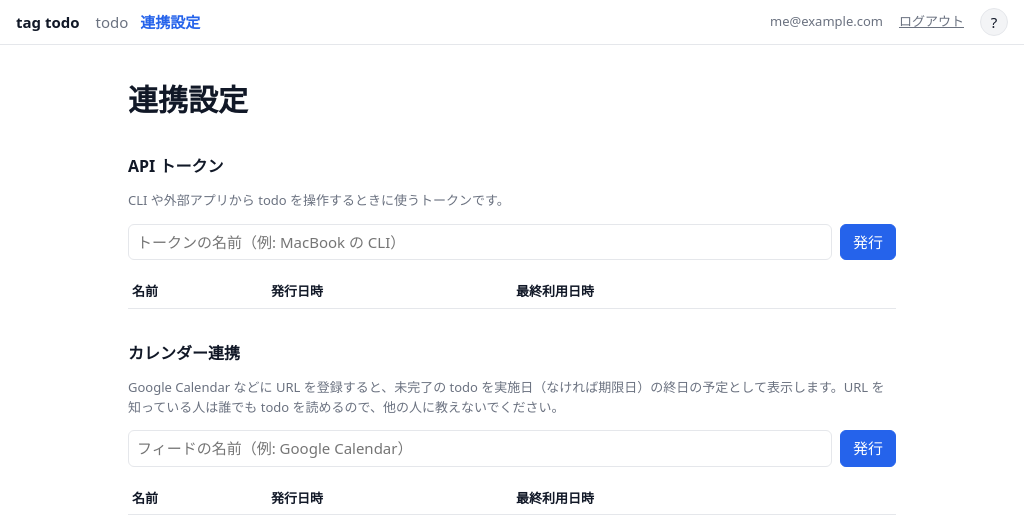
ヘッダー › ログイン中のメールアドレスを表示し、todo 画面に移動できる
Check: the text "me@example.com" is shown, box [770, 12, 883, 32]
Click the link "todo" at (112, 22), box [96, 11, 128, 33]
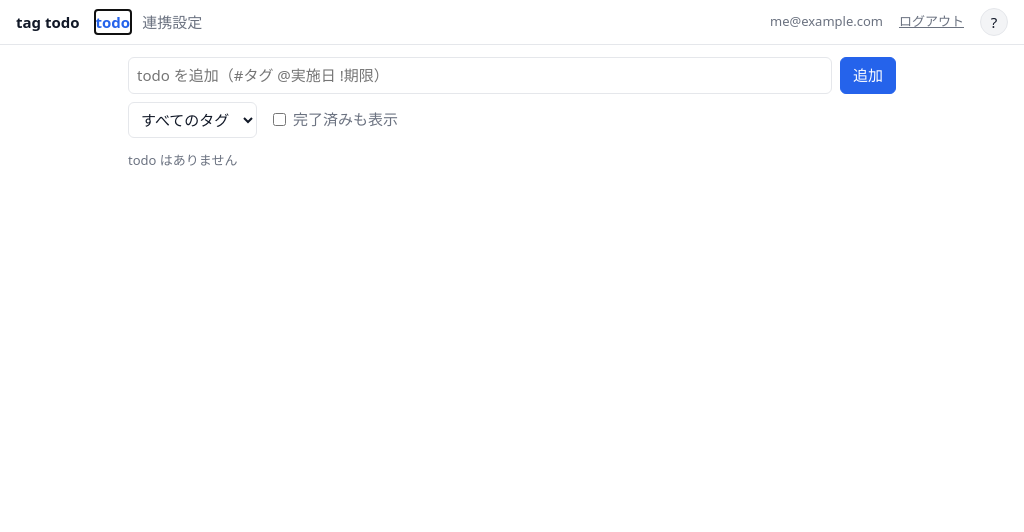
Check: the field labelled "todo を追加" is shown, box [128, 57, 832, 94]
